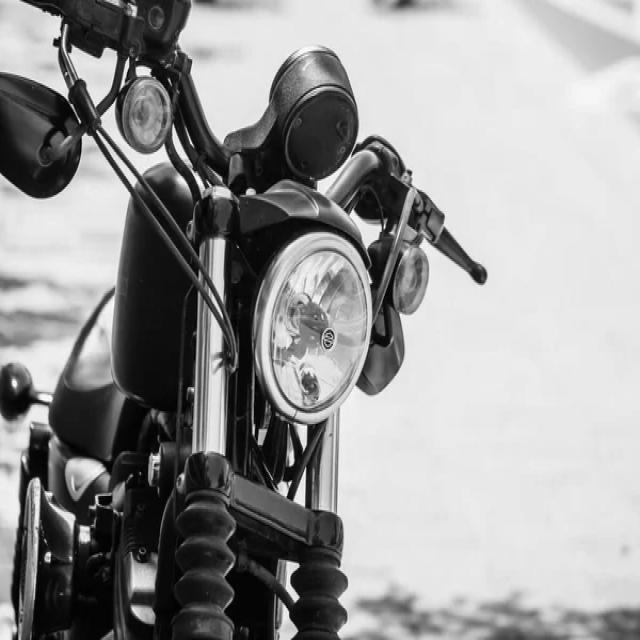Motorcycle: (0, 0, 487, 639)
